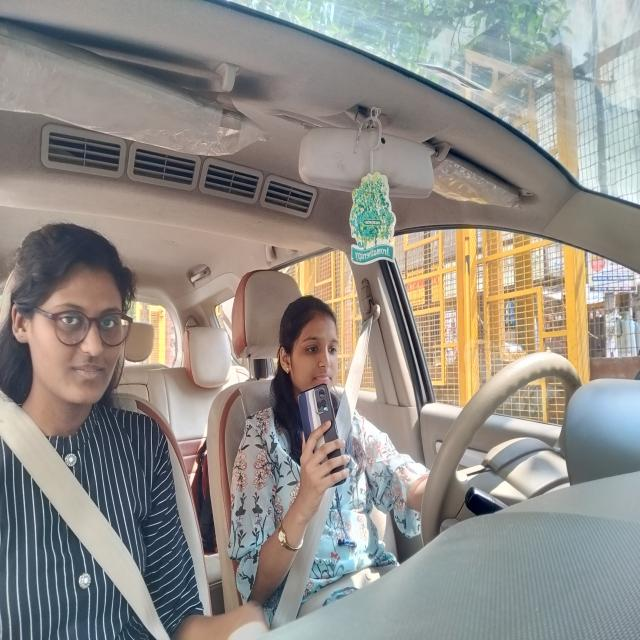mobile: (292, 371, 348, 500)
person: (0, 223, 140, 440), (272, 295, 358, 398)
